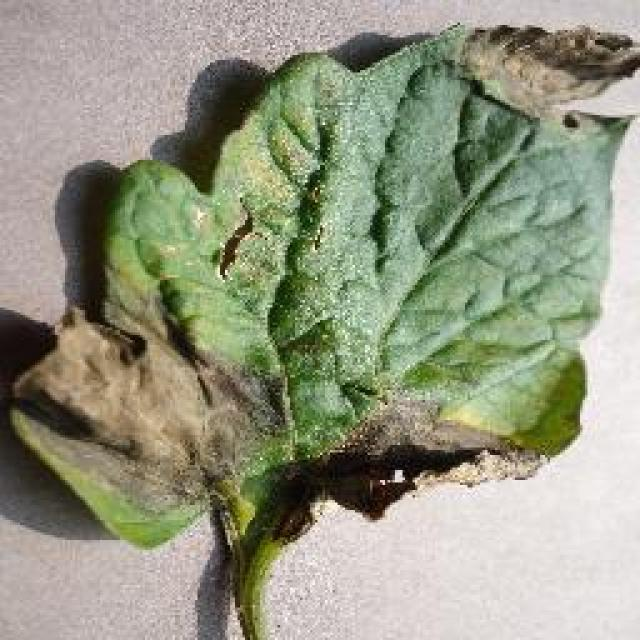Tomato Late Blight: (60, 80, 550, 508)
